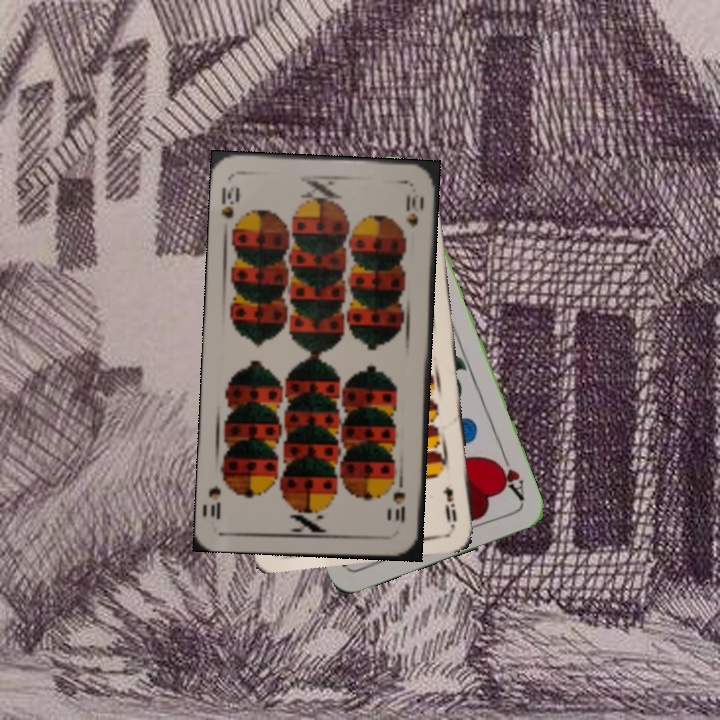E9: (439, 482, 459, 528)
HA: (491, 448, 527, 504)
S10: (389, 474, 408, 526), (217, 183, 242, 221)
